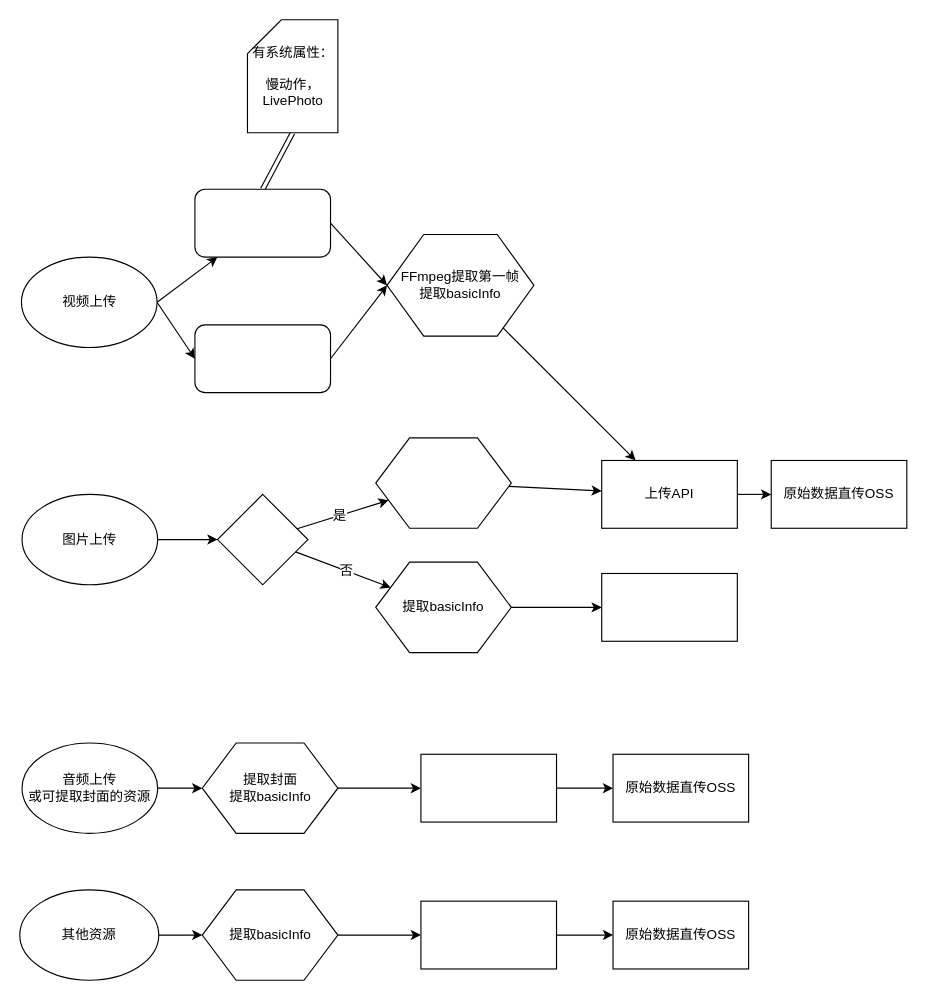
Some shapes in this 927 by 1000 pixel diagram are drawn without their labels. The shapes that lost their labels are listed below. From the top down, each one's centre as x and y in pixels, then its label:
the point at 262,222: 系统相册
the point at 262,358: 普通文件资源
the point at 443,482: 压缩720 保持metadata 提取basicInfo
the point at 262,539: 文件过大 尺寸过大
the point at 669,606: 原始数据上传API
the point at 488,787: 封面basicInfo上传API
the point at 488,934: basicInfo上传API
